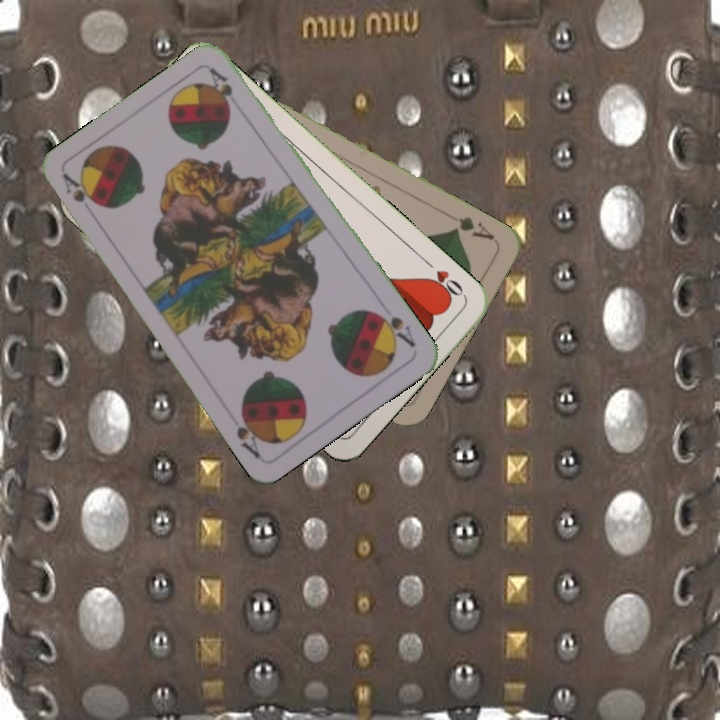GA: (443, 210, 498, 243)
HO: (419, 255, 468, 303)
SA: (370, 307, 419, 351), (59, 170, 99, 209)
